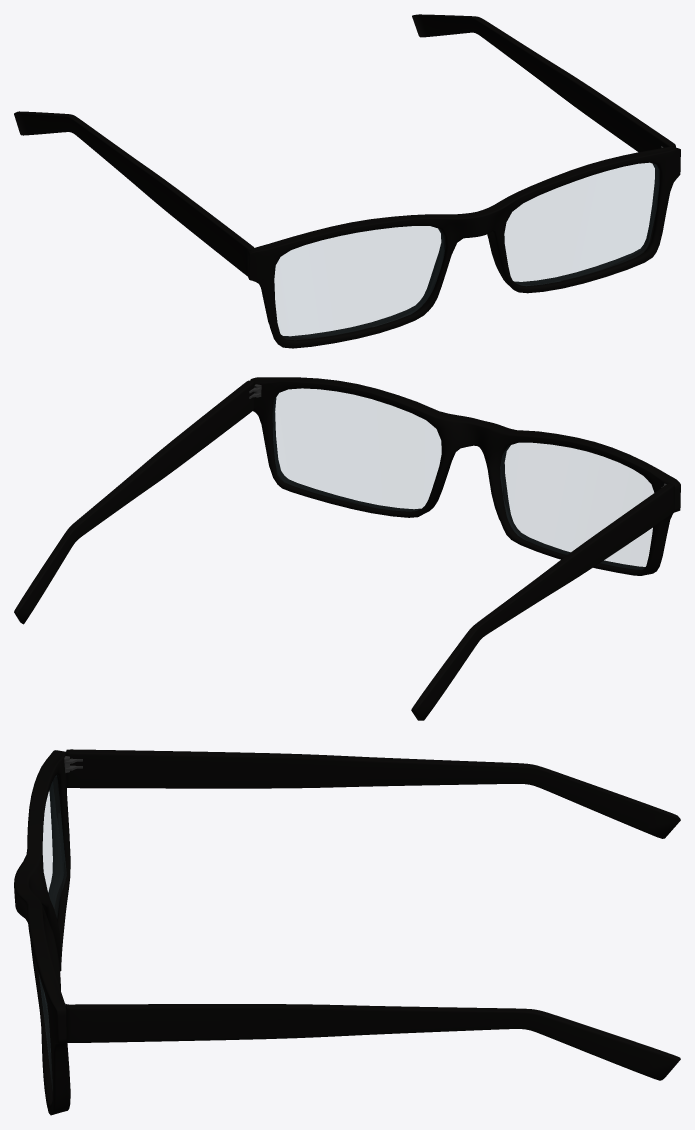
The model's file is Modelo_4.fbx.
3 renders of one model, top to bottom at view 1: azimuth 30°, elevation 25°; view 2: azimuth 150°, elevation 25°; view 3: azimuth 270°, elevation 25°, orthographic. The views are drawn at different scales.
Parts seen in each view (by area): view 1: lentes_4, Marco_4, Pata_izquierda_4, Pata_derecha_4; view 2: lentes_4, Marco_4, Pata_derecha_4, Pata_izquierda_4; view 3: Pata_izquierda_4, Pata_derecha_4, Marco_4, lentes_4.
Part boxes in pixels (bbox=[...]): lentes_4: bbox=[275, 163, 658, 337]; Marco_4: bbox=[247, 146, 680, 348]; Pata_izquierda_4: bbox=[412, 14, 675, 152]; Pata_derecha_4: bbox=[14, 111, 254, 275]; lentes_4: bbox=[273, 389, 653, 569]; Marco_4: bbox=[250, 377, 680, 575]; Pata_derecha_4: bbox=[411, 483, 674, 720]; Pata_izquierda_4: bbox=[14, 380, 254, 624]; Pata_izquierda_4: bbox=[65, 1004, 680, 1080]; Pata_derecha_4: bbox=[65, 749, 680, 838]; Marco_4: bbox=[14, 750, 70, 1115]; lentes_4: bbox=[39, 776, 65, 1061].
Bounding box in the file's own units: 18.59 × 4.83 × 20.07.
